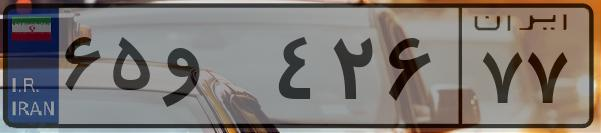2: (330, 28, 385, 110)
4: (270, 28, 330, 110)
5: (110, 28, 158, 98)
6: (385, 28, 445, 110), (57, 26, 110, 100)
7: (475, 38, 525, 113), (525, 38, 570, 115)
و: (158, 20, 270, 120)
